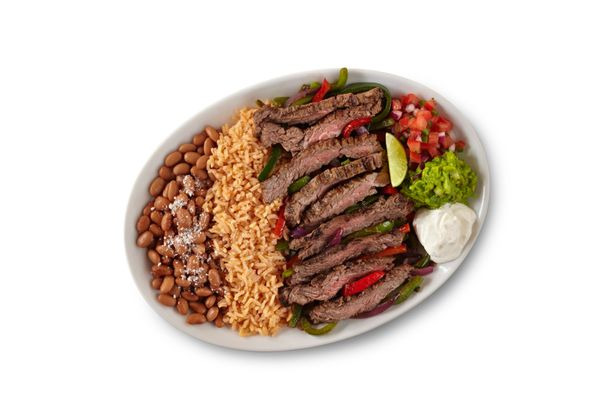curry: (404, 148, 479, 209)
sushi: (134, 64, 493, 357)
